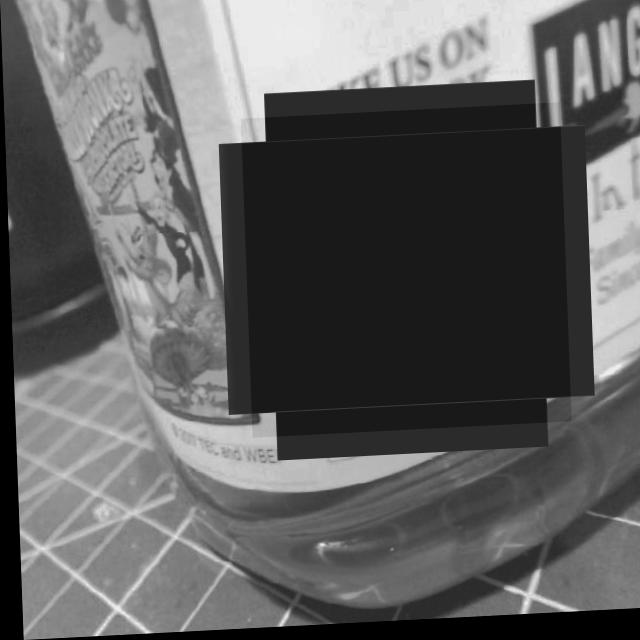qr_code: (240, 108, 568, 440)
